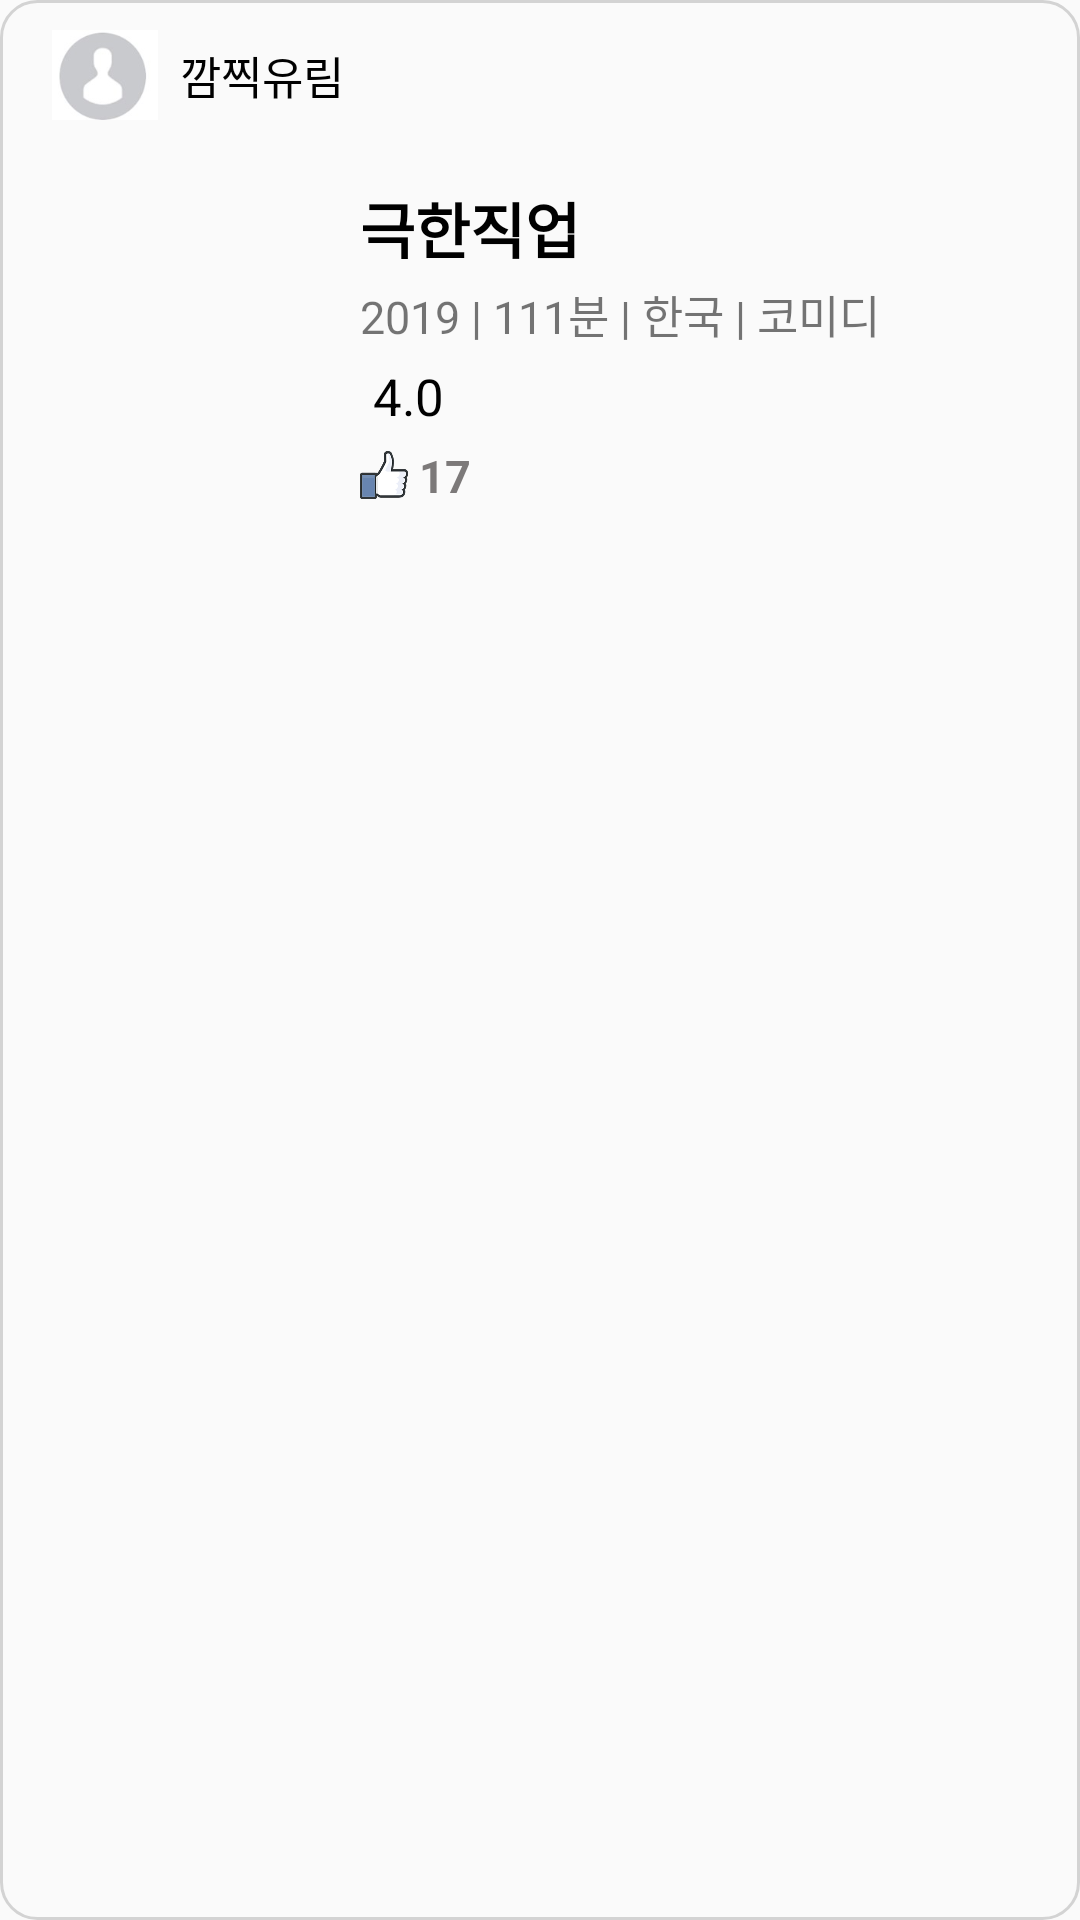

Icon bounding boxes for this 1080w x 1920h phone screenshot, format (x1, y1, x2, y2):
person: (60, 33, 146, 120)
